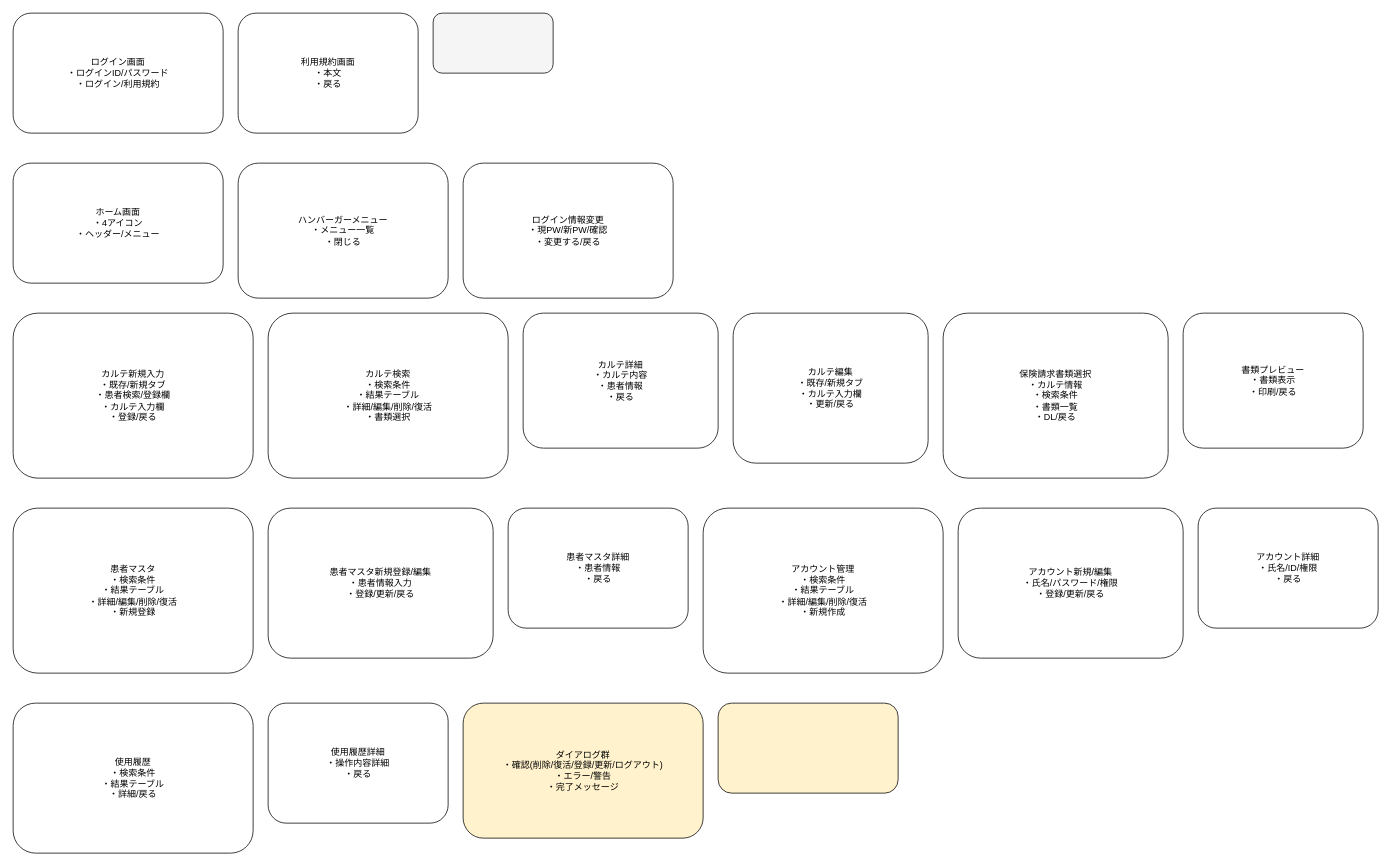
Image size: 1391x866. Some labels were removed from this diagram. The shapes that lost their labels are listed below. From the top down, each one's box as (x1, y1, x2, y2) in pixels, then its label:
(432, 12, 553, 73): ローディング
(717, 702, 898, 793): 印刷ダイアログ(ブラウザ)
